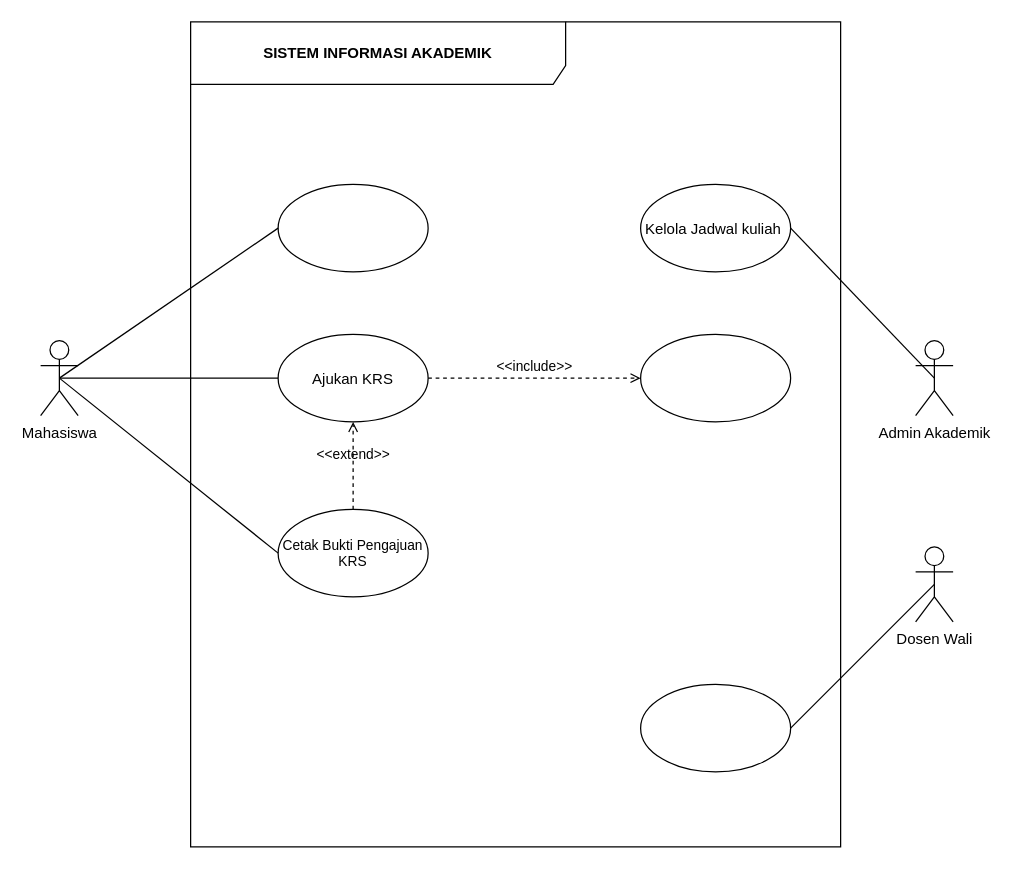
Some shapes in this 1011 by 869 pixel diagram are drawn without their labels. The shapes that lost their labels are listed below. From the top down, each one's centre as x and y in pixels, then its label:
the point at 352,227: Lihat jadwal kuliah
the point at 715,377: Validasi KRS
the point at 715,727: Proses Keputusan KRS
